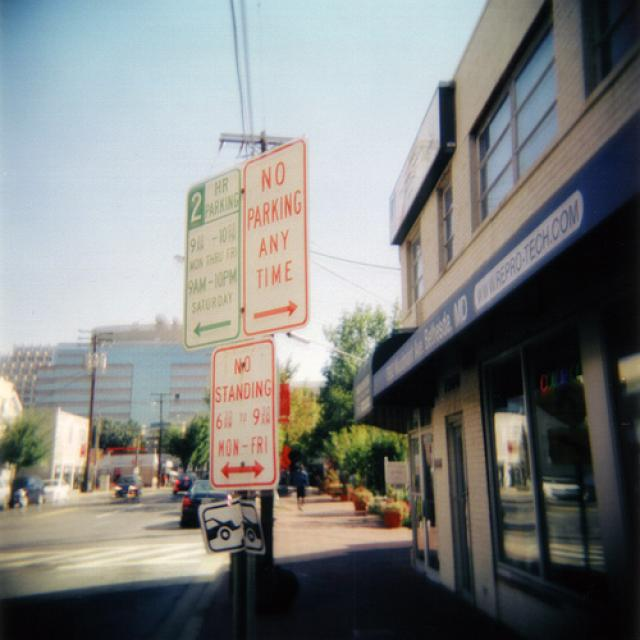Vehicle: (180, 479, 234, 528), (42, 477, 72, 502), (115, 475, 143, 496), (173, 474, 196, 494)
